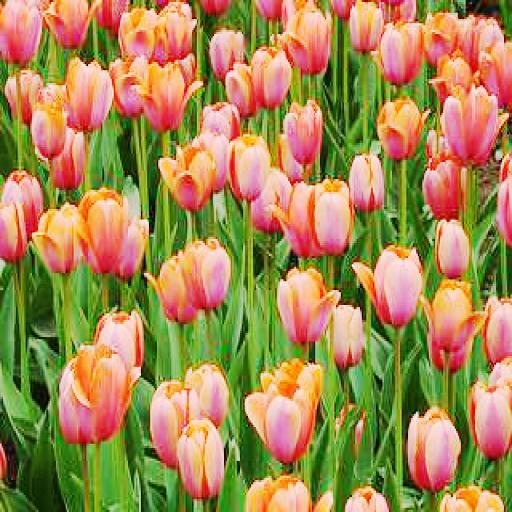tulip: (85, 341, 141, 446), (245, 382, 317, 461), (442, 84, 508, 166), (422, 273, 490, 352), (72, 188, 131, 271), (136, 58, 203, 128), (278, 269, 340, 343), (408, 406, 461, 488), (152, 380, 200, 465), (58, 56, 112, 130), (59, 343, 98, 444), (374, 244, 422, 326), (160, 143, 218, 209), (178, 237, 230, 309), (179, 418, 224, 497), (378, 96, 432, 160), (34, 203, 80, 271), (374, 21, 426, 81), (470, 382, 512, 456), (284, 8, 330, 74), (314, 177, 354, 252), (252, 42, 294, 104), (229, 132, 269, 196), (285, 98, 323, 160), (349, 152, 384, 209), (437, 218, 472, 271)
